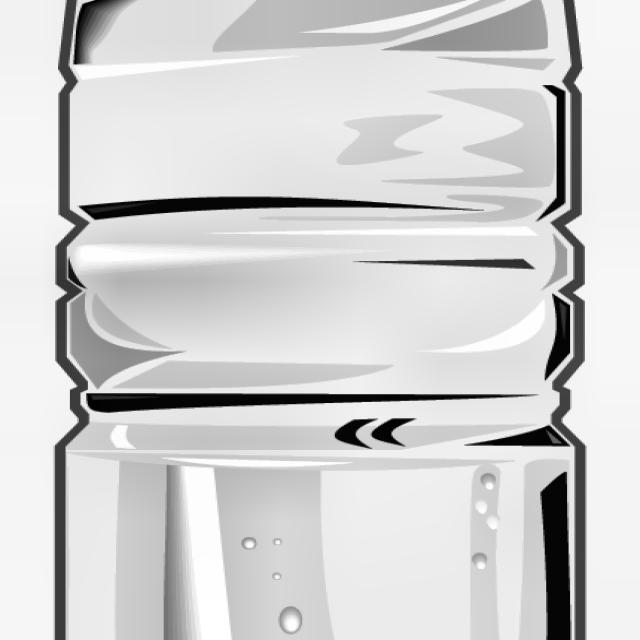bottle: (48, 0, 592, 640)
